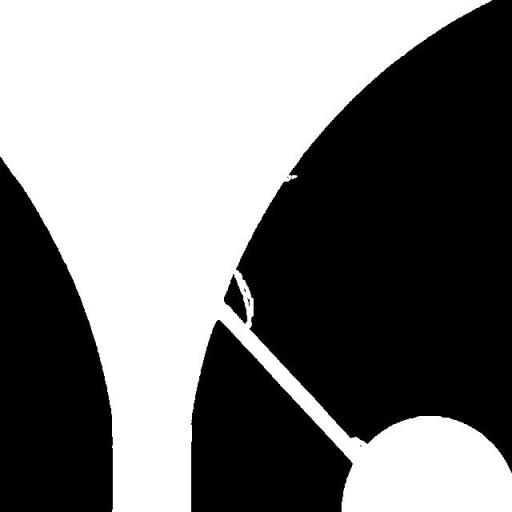mousebite: (342, 428, 375, 458), (274, 167, 304, 189)
open: (226, 262, 260, 336)
